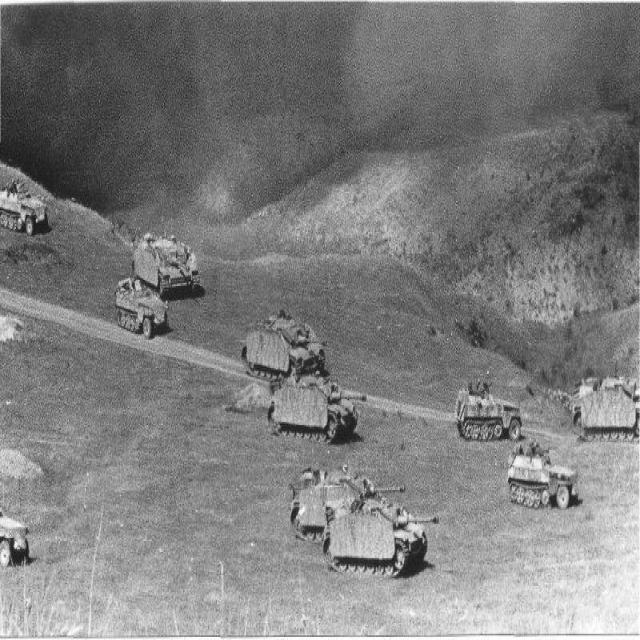MIL_MBT: (295, 464, 431, 572), (246, 307, 352, 440), (567, 369, 634, 439), (510, 448, 578, 507), (133, 235, 203, 291), (456, 383, 517, 438)
